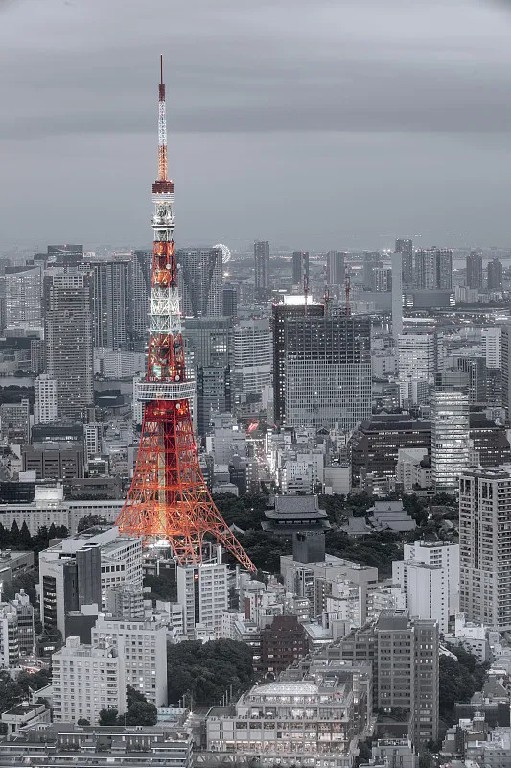Tokyo: (109, 53, 260, 578)
